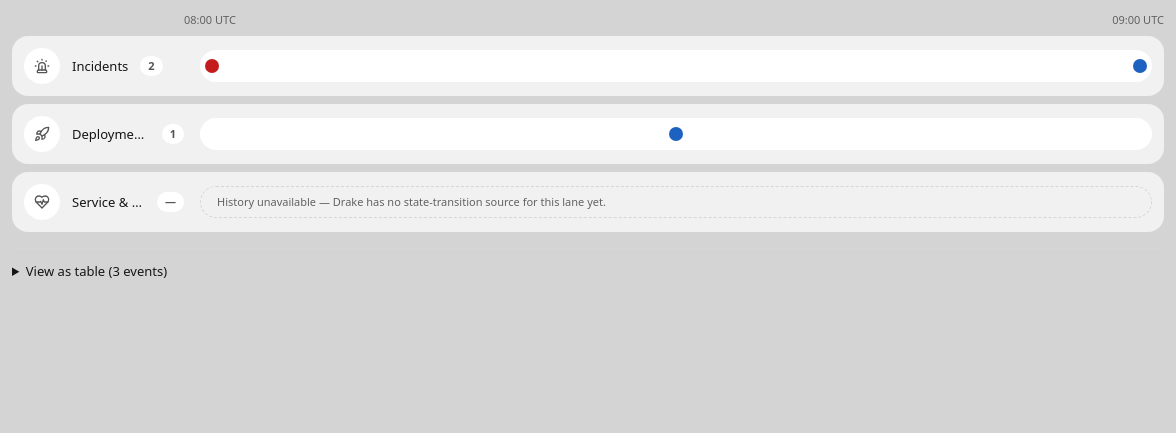
it: OperationalTimeline › the table disclosure lists exactly as many rows as events plotted on the track
This screenshot has width=1176, height=433.
Click the heading "View as table (3 events)": [96, 271] box x1=26 y1=262 x2=167 y2=280
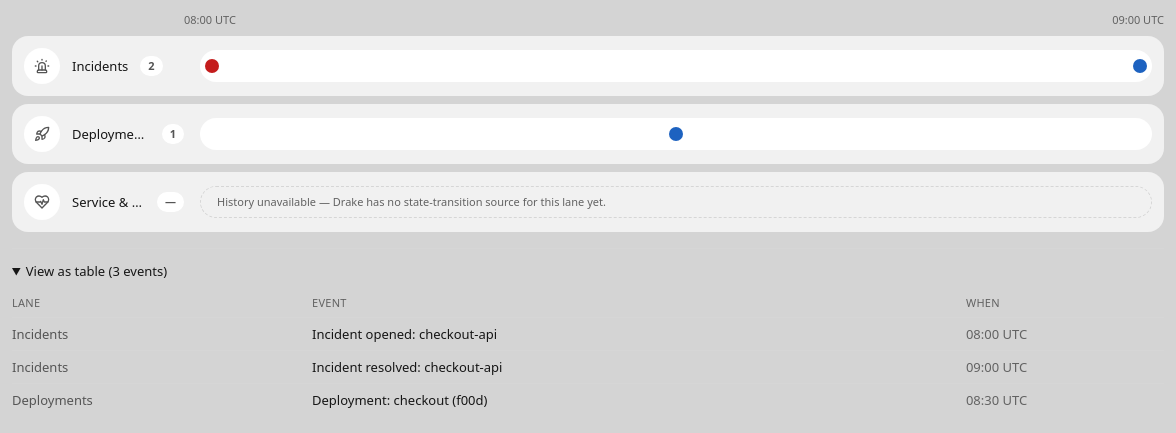
expect the number of rows is 4: met, box x1=12 y1=289 x2=1164 y2=318; x1=12 y1=318 x2=1164 y2=350; x1=12 y1=350 x2=1164 y2=384; x1=12 y1=384 x2=1164 y2=416
